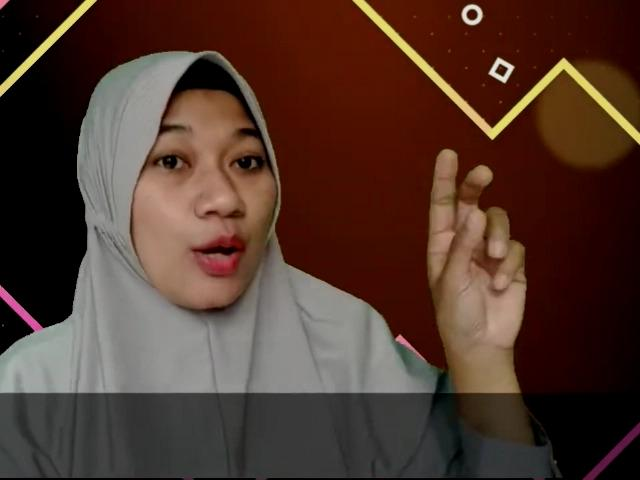U: (417, 145, 533, 341)
